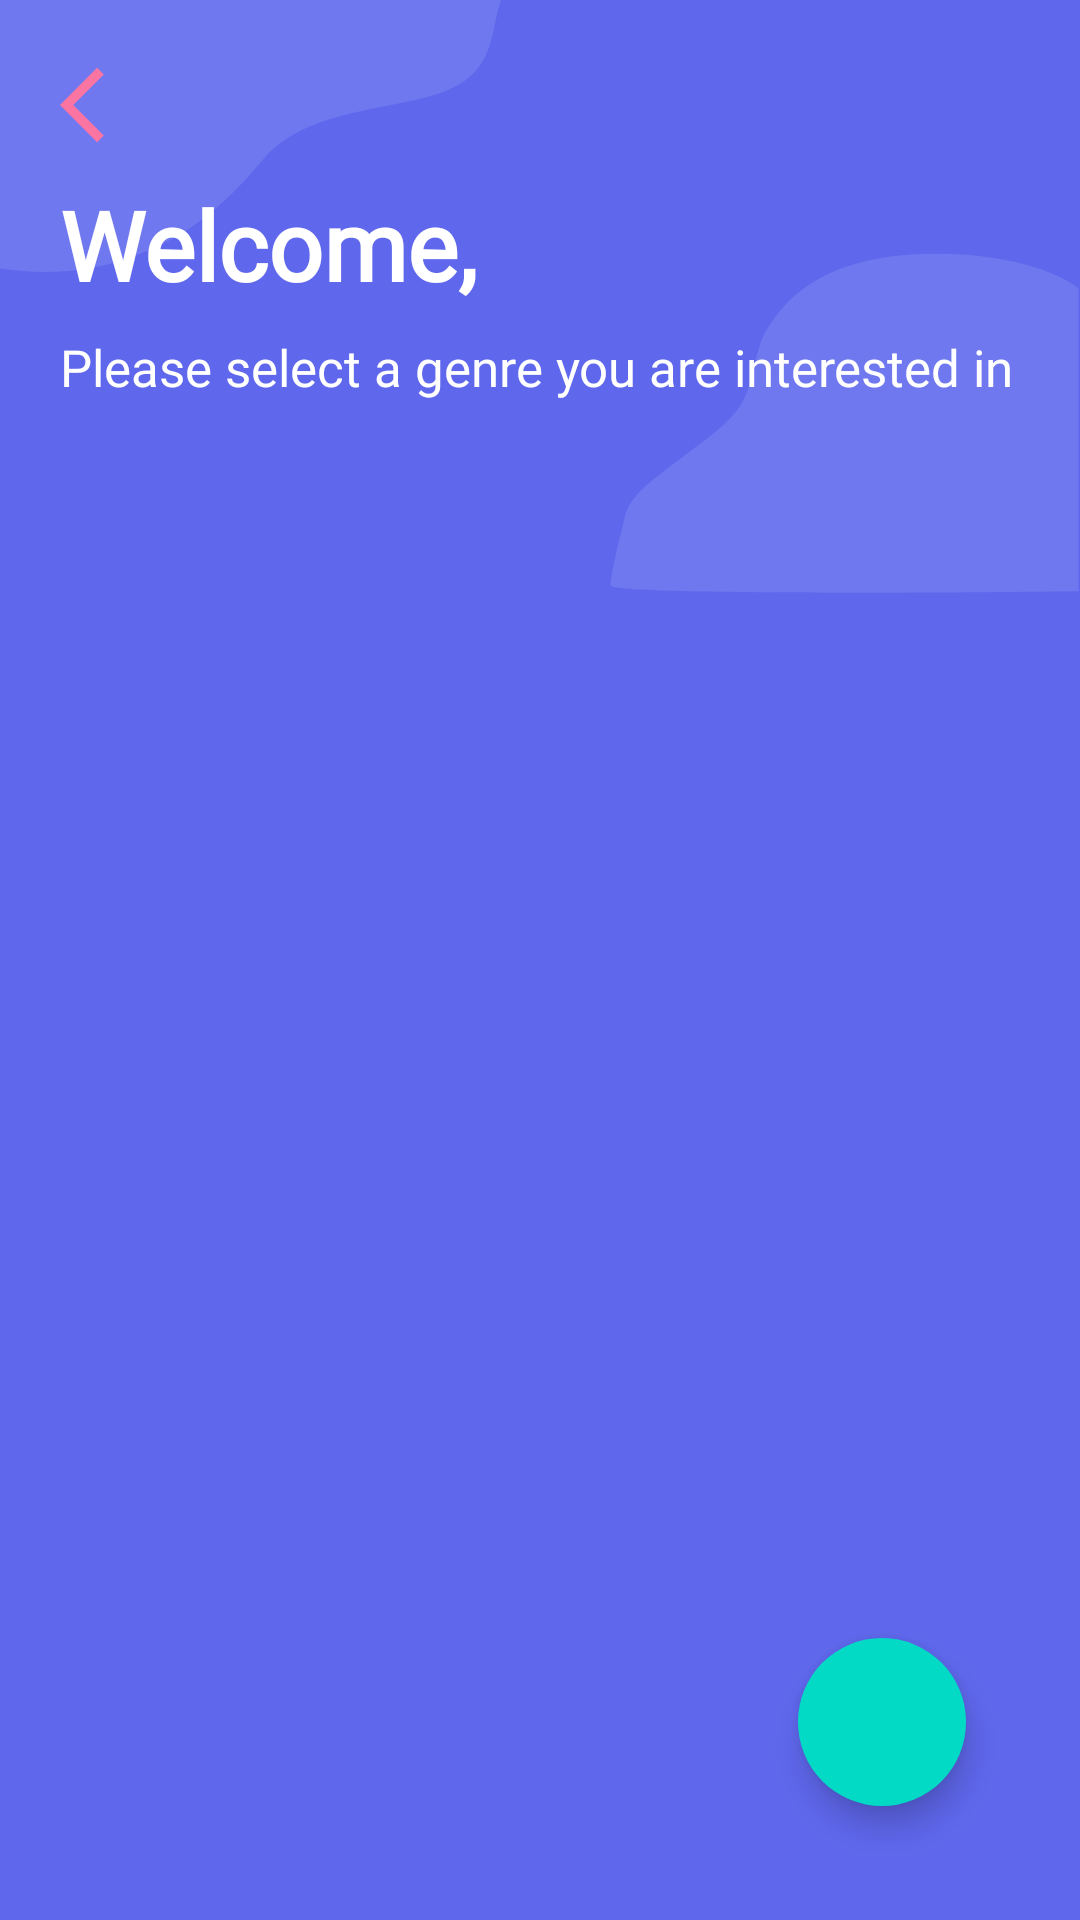

Locate icon controls on the screen. Image size 1080x1920, boxes as bbox=(x1, y1, x2, y2).
Back: bbox=(60, 68, 104, 142)
